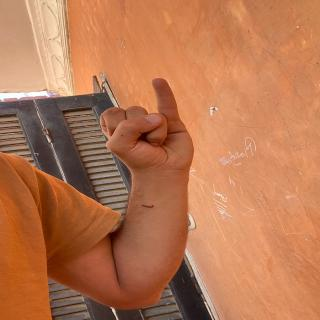MEEM: (78, 64, 214, 174)
